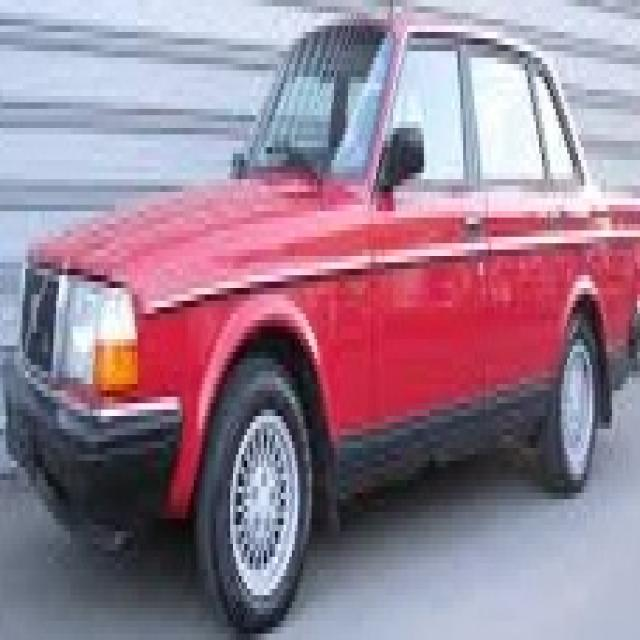red: (11, 13, 640, 518)
